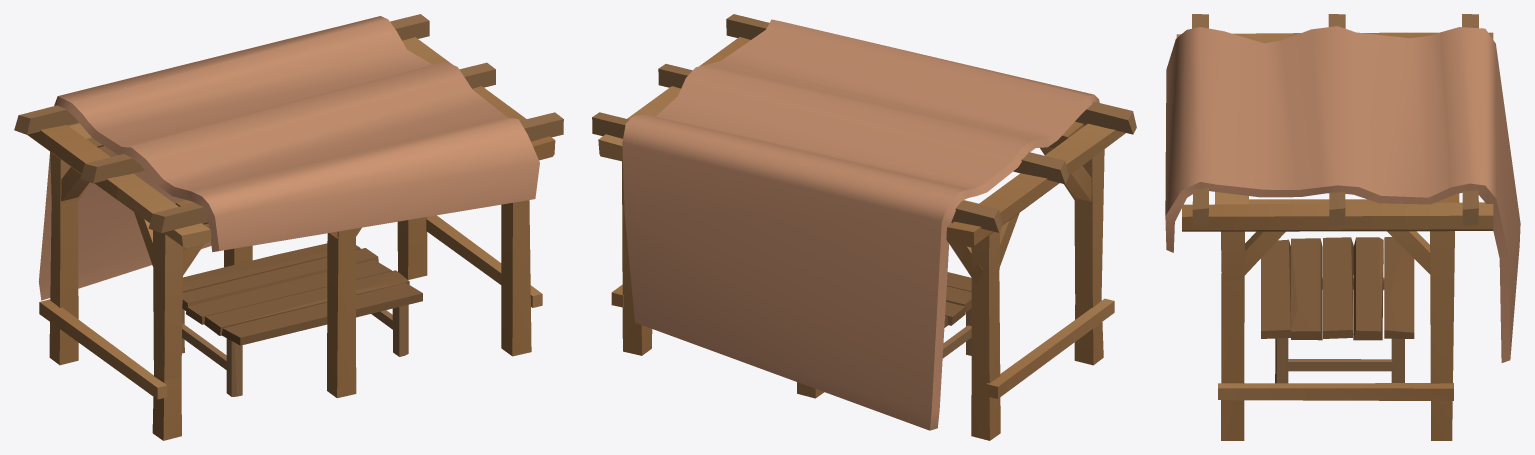
Rendered from Market_E.fbx.
3 views of the same model, side by side, from view 1: azimuth 30°, elevation 25°; view 2: azimuth 150°, elevation 25°; view 3: azimuth 270°, elevation 25° (orthographic).
Parts seen in each view (by area): view 1: Market_E; view 2: Market_E; view 3: Market_E.
Part boxes in pixels (x1,y1,x2,y2): Market_E: (14, 14, 563, 440); Market_E: (592, 14, 1136, 440); Market_E: (1165, 14, 1520, 440).
Size of the model in its own units: 508 by 294 by 382.
